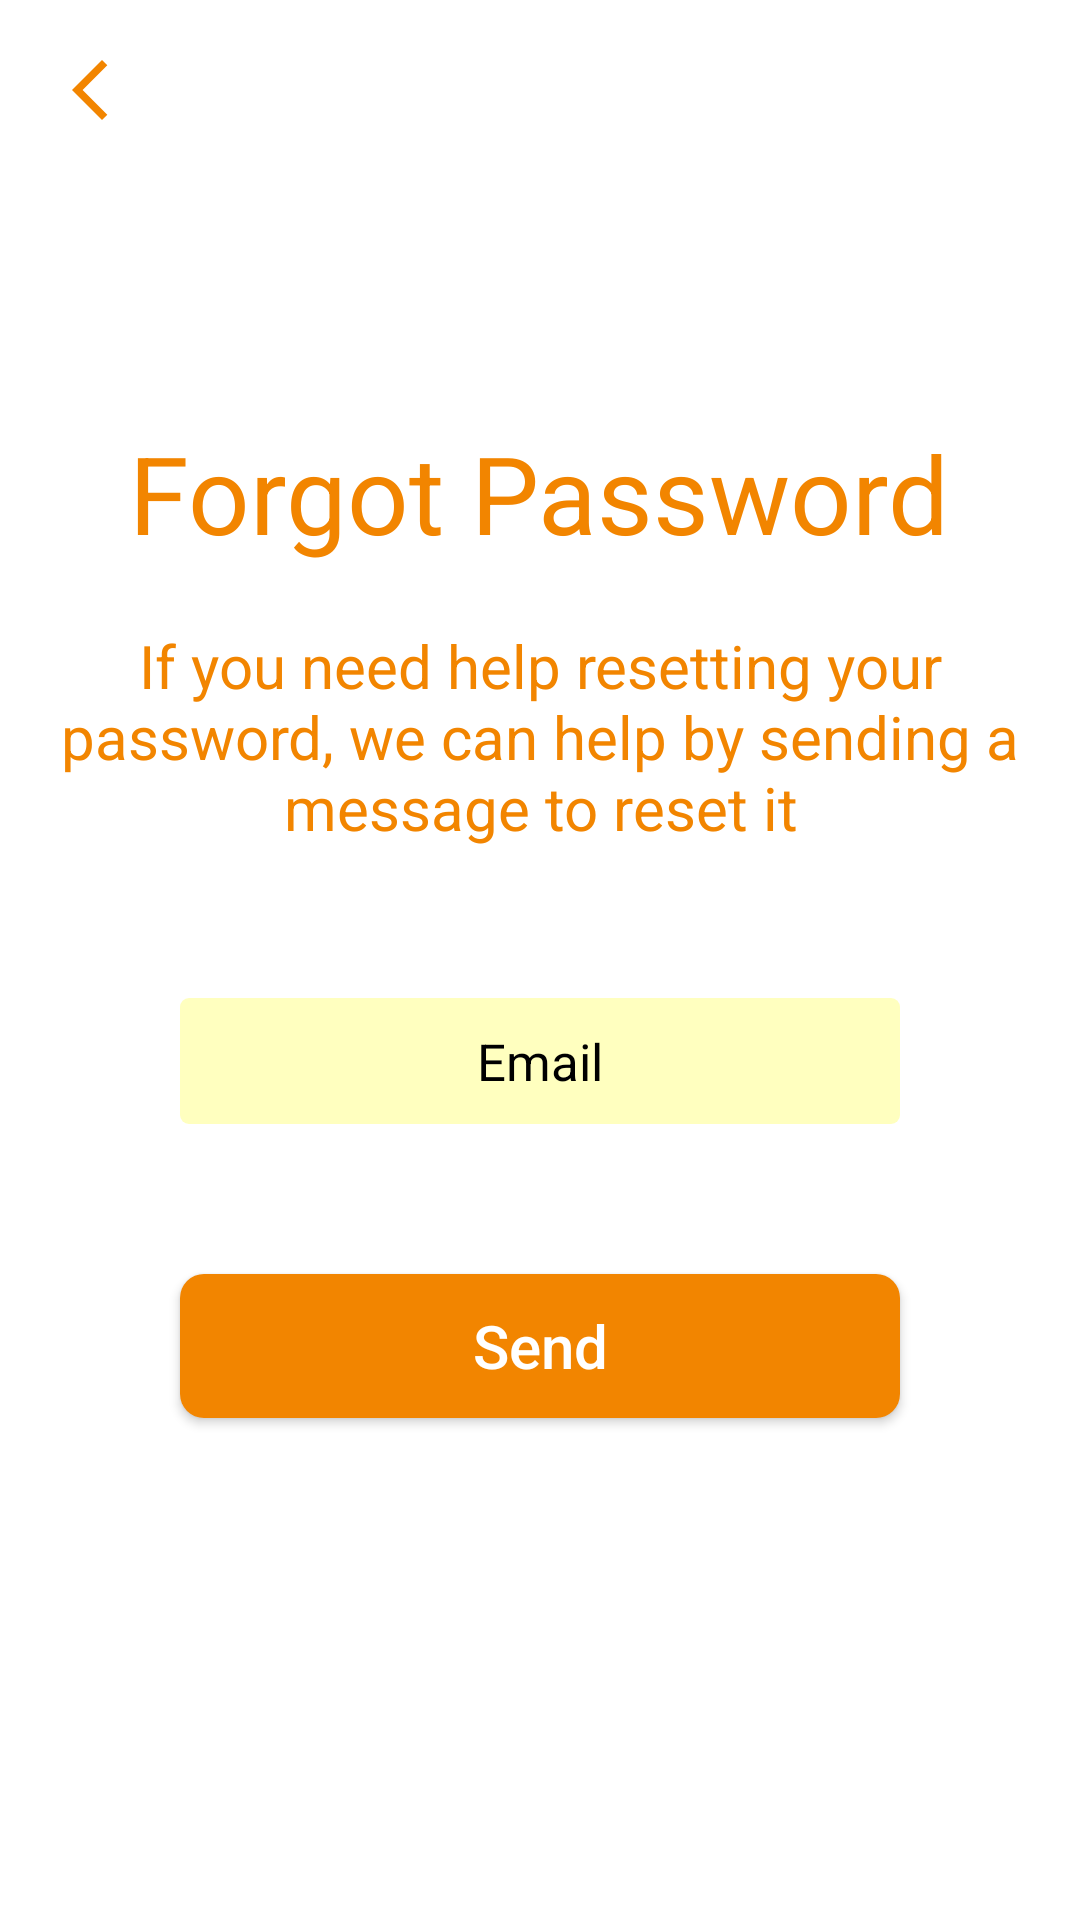

Icons on this 1080×1920 Android screen, each with its box as (x1, y1, x2, y2):
back: (72, 60, 107, 120)
